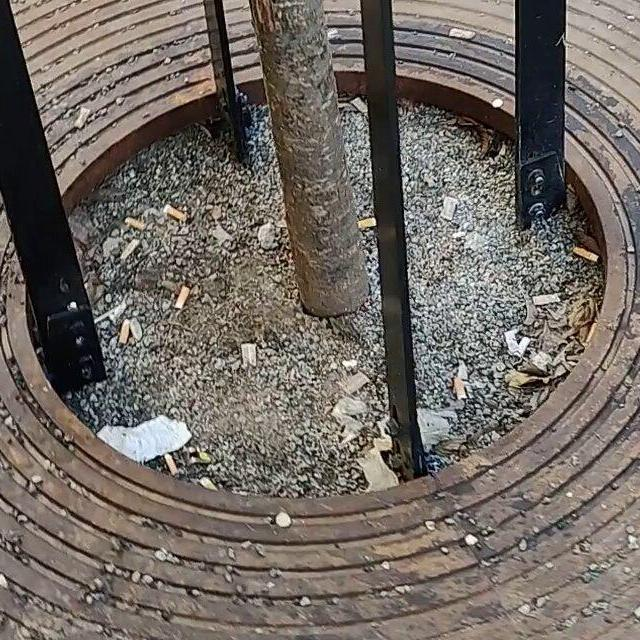Cigarette Butt: (448, 371, 471, 403), (123, 216, 151, 238), (117, 319, 134, 354), (532, 293, 564, 310), (570, 245, 599, 263), (165, 202, 191, 220), (177, 287, 191, 315), (164, 446, 177, 474), (355, 225, 371, 233)
